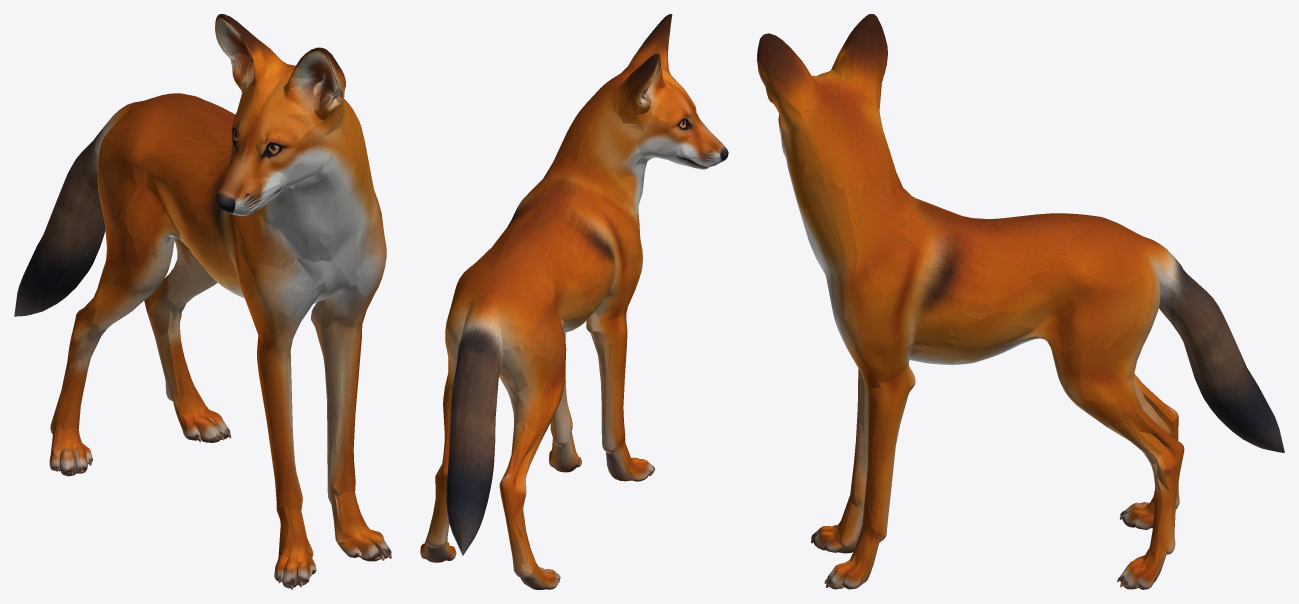
The model's file is fauna_wild_dog.glb.
The picture shows the model from 3 angles, left to right: view 1: azimuth 30°, elevation 25°; view 2: azimuth 150°, elevation 25°; view 3: azimuth 270°, elevation 25°; orthographic projection. The views are drawn at different scales.
Bounding box in the file's own units: 0.7283 × 1.9 × 1.78.
1 material, 1 textured.
